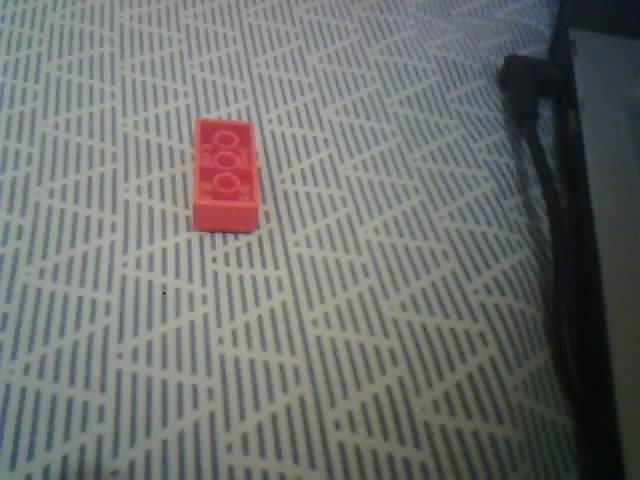lego: (191, 117, 260, 231)
